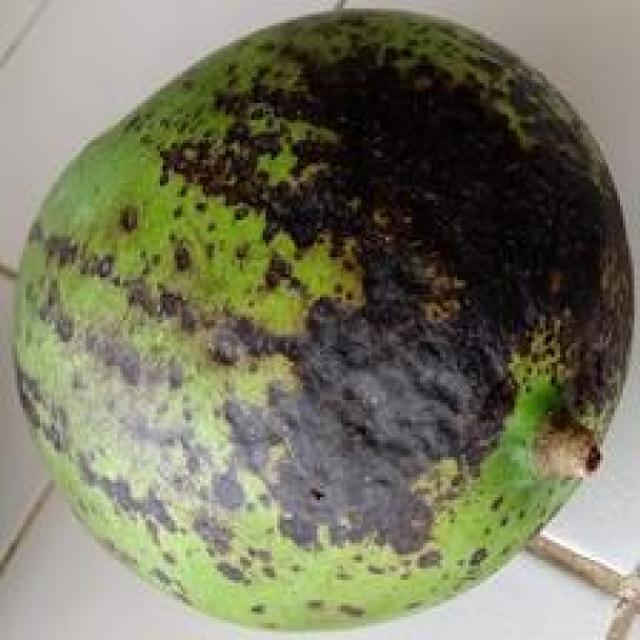Bad_Mango: (20, 15, 632, 628)
